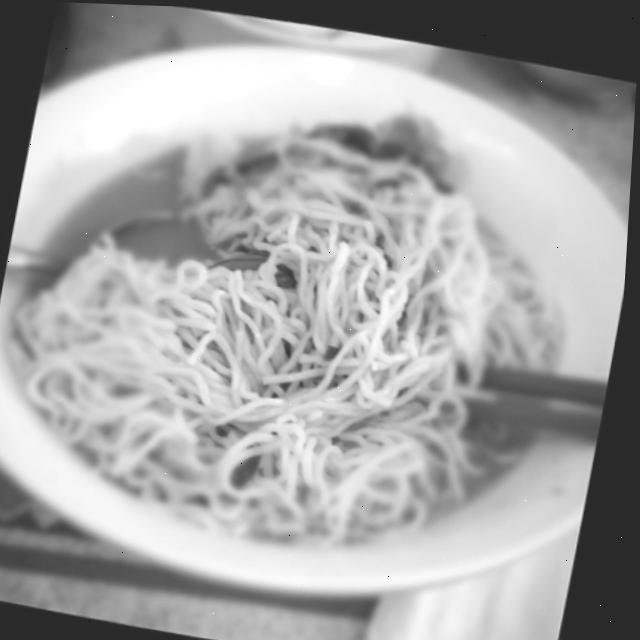面条主食: (0, 64, 637, 614)
